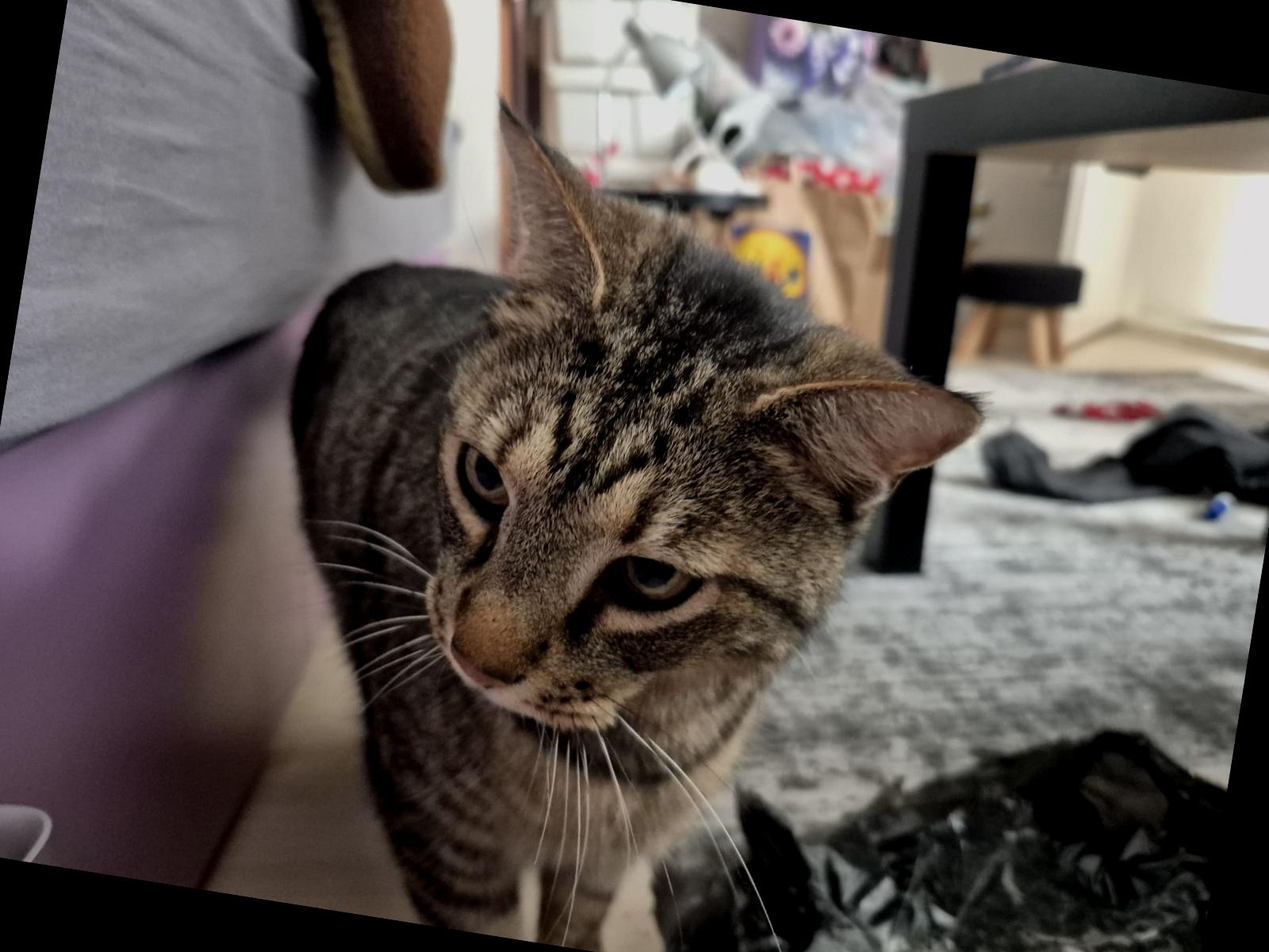macka: (209, 67, 1019, 952)
